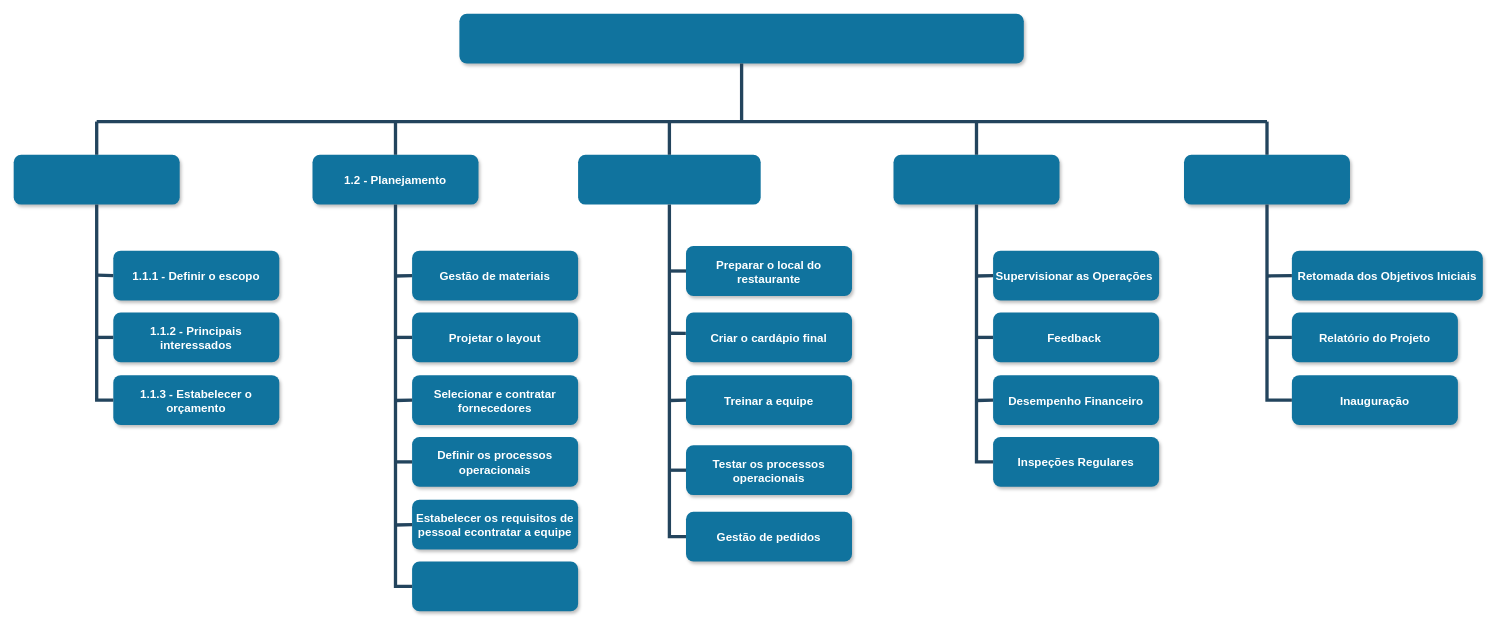
This 1496x625 diagram has some shape labels left out. Each missing label, with the centre of its shape:
1 - Restaurante mexicano "O Asteca": point (742, 39)
1.1 - Iniciação do Projeto: point (97, 180)
1.3 - Execução: point (669, 179)
1.4 - Monitoramento e Controle: point (977, 180)
1.5 - Encerramento: point (1267, 180)
Desenvolver um plano de marketing: point (495, 587)
